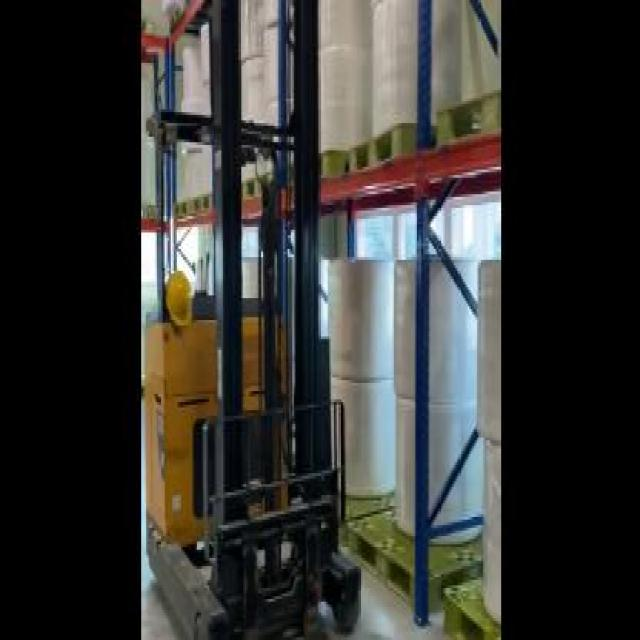robot: (157, 8, 363, 632)
white_roll: (385, 257, 486, 577), (324, 249, 398, 528), (283, 0, 366, 175), (468, 260, 503, 637), (369, 2, 454, 148), (230, 3, 284, 183), (180, 32, 223, 200)
